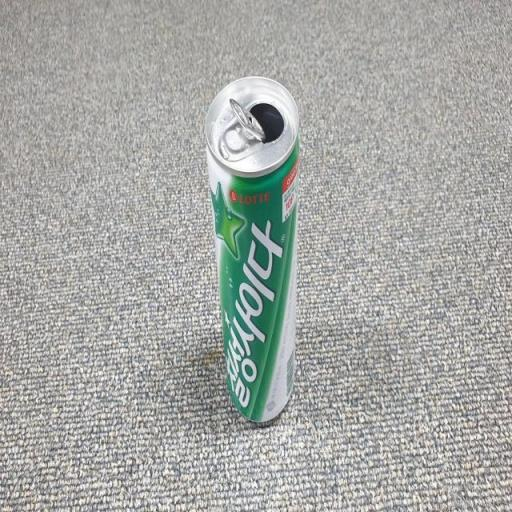metal: (199, 61, 310, 442)
